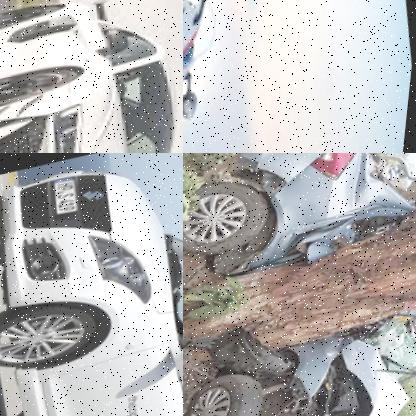bike: (183, 0, 261, 153)
car: (0, 153, 183, 416), (183, 153, 416, 292), (183, 304, 416, 416)
